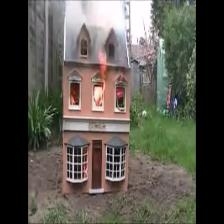fire: (93, 60, 106, 109)
